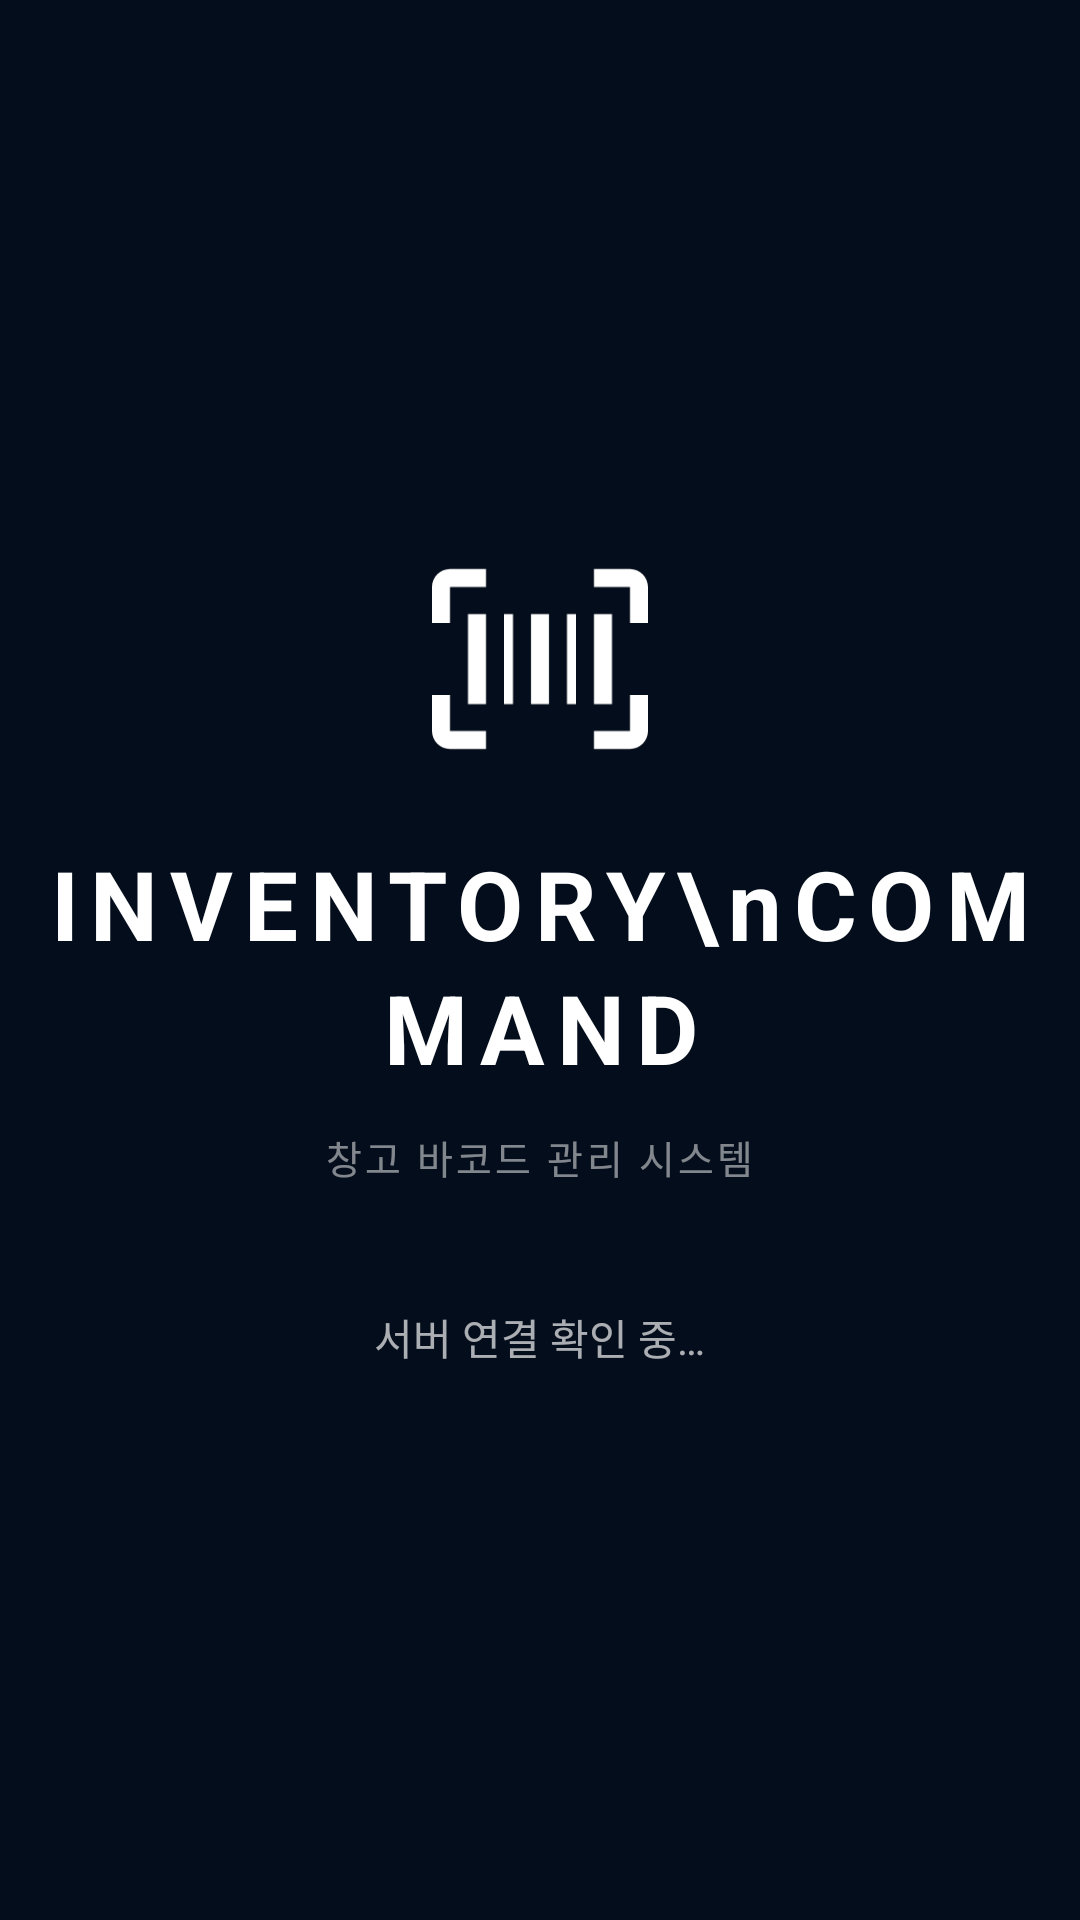

Locate icon controls on the screen. Image size 1080px x 1920px, boxes as (x1, y1, x2, y2).
앱 아이콘: (432, 568, 648, 750)
